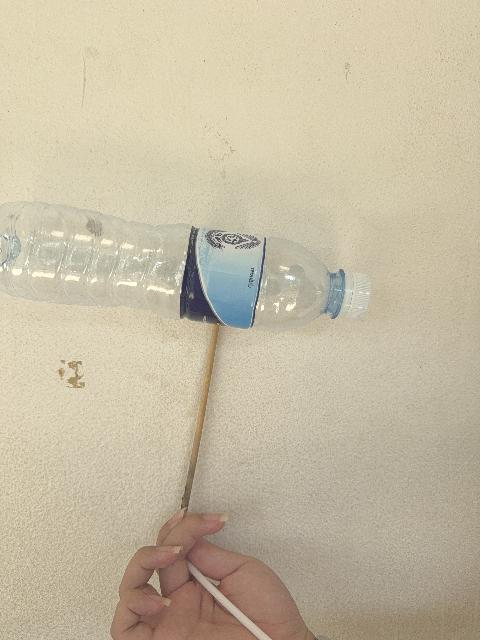bottle: (0, 202, 370, 331)
